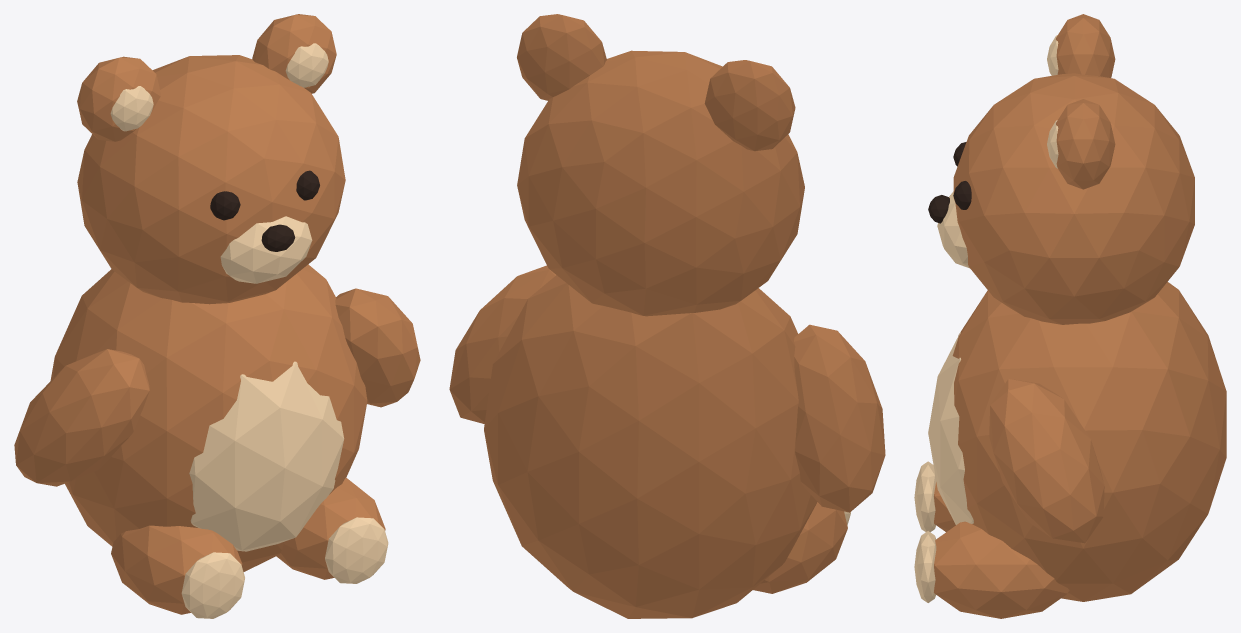
File: orsetto.glb
The picture shows the model from 3 angles, left to right: view 1: azimuth 30°, elevation 25°; view 2: azimuth 150°, elevation 25°; view 3: azimuth 270°, elevation 25°; orthographic projection. The views are drawn at different scales.
Size of the model in its own units: 0.9846 by 1.27 by 0.6834.
